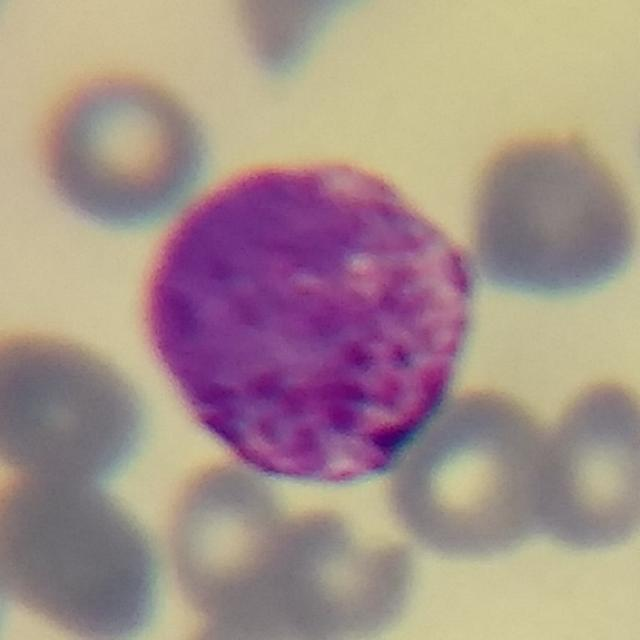baso: (140, 156, 486, 481)
